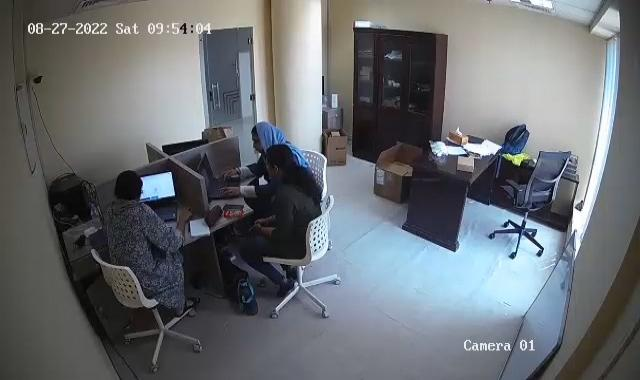no_hairnet: (114, 168, 146, 208), (264, 145, 299, 178), (248, 119, 282, 151)
